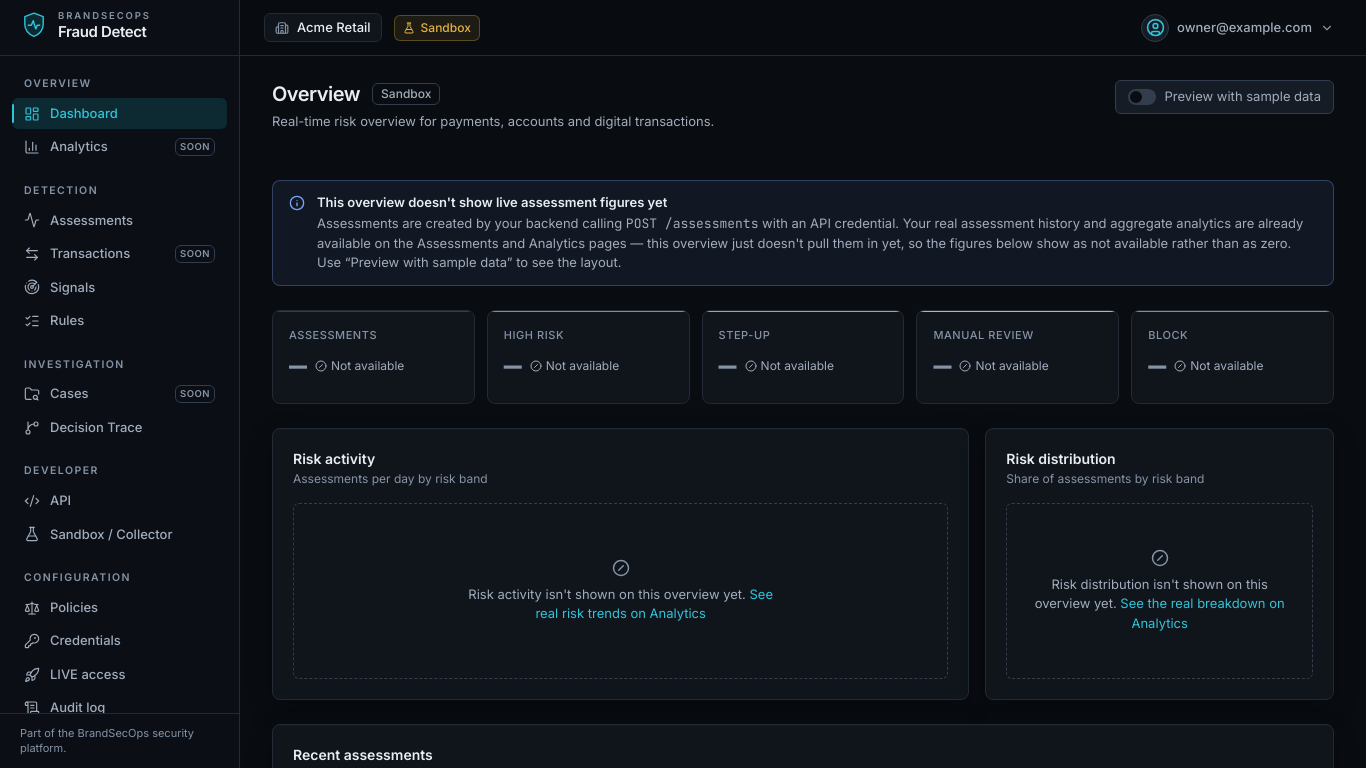
Test: dashboard: no data vs failed vs sample › the sample switch is an accessible toggle that adds and removes sample data
The image size is (1366, 768).
Click the switch labelled "Preview with sample data" at (1225, 97), box [1115,80,1334,114]
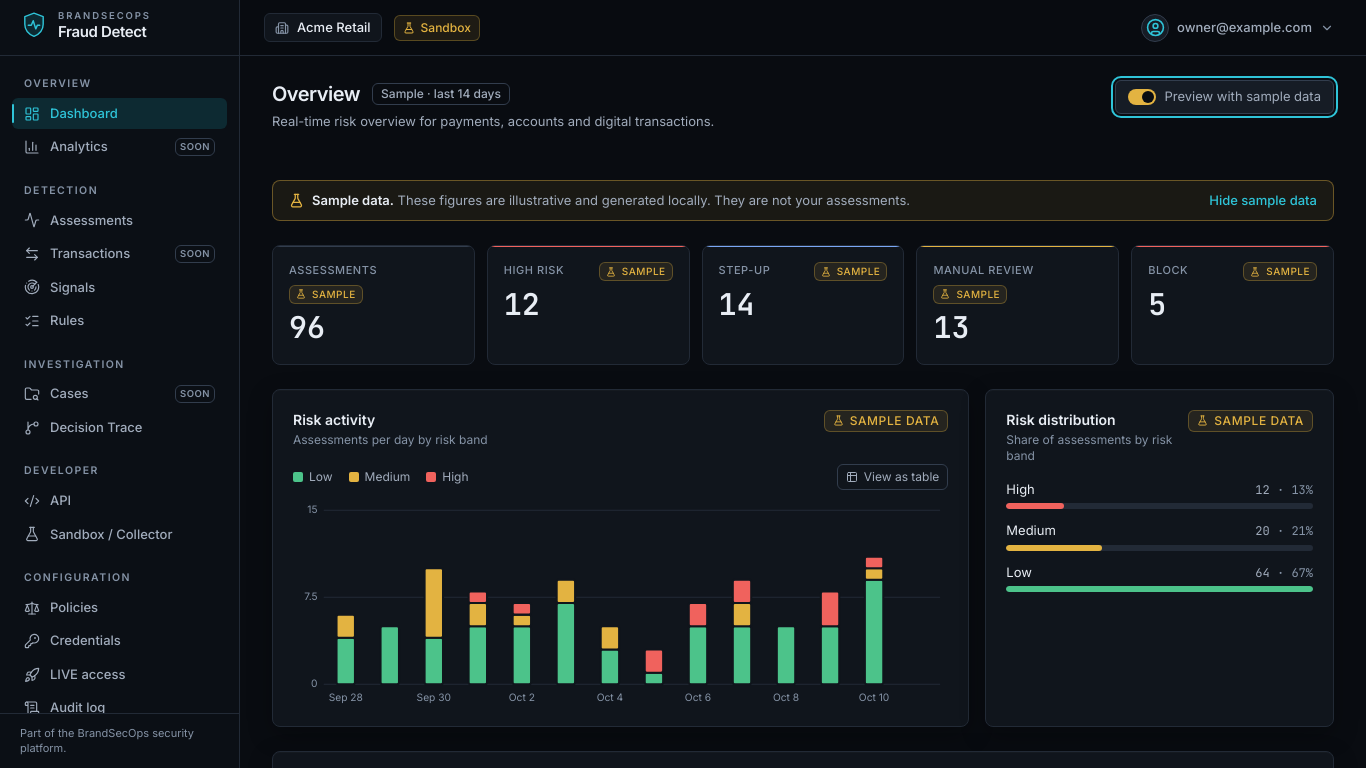
Expected: the text "Sample data." is shown, [312,192,394,208]
Click the switch labelled "Preview with sample data" at (1225, 97), box [1115,80,1334,114]
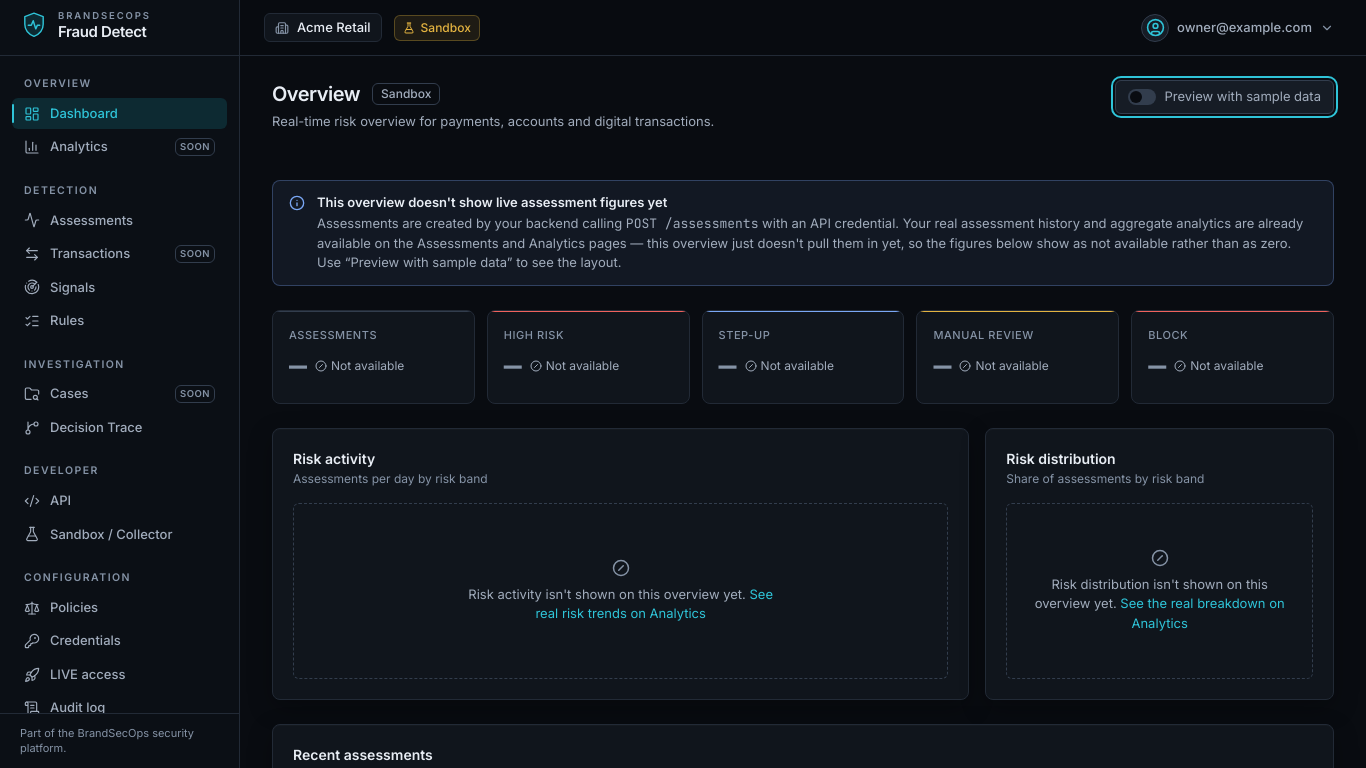
Expected: the text "Sample data." is gone
